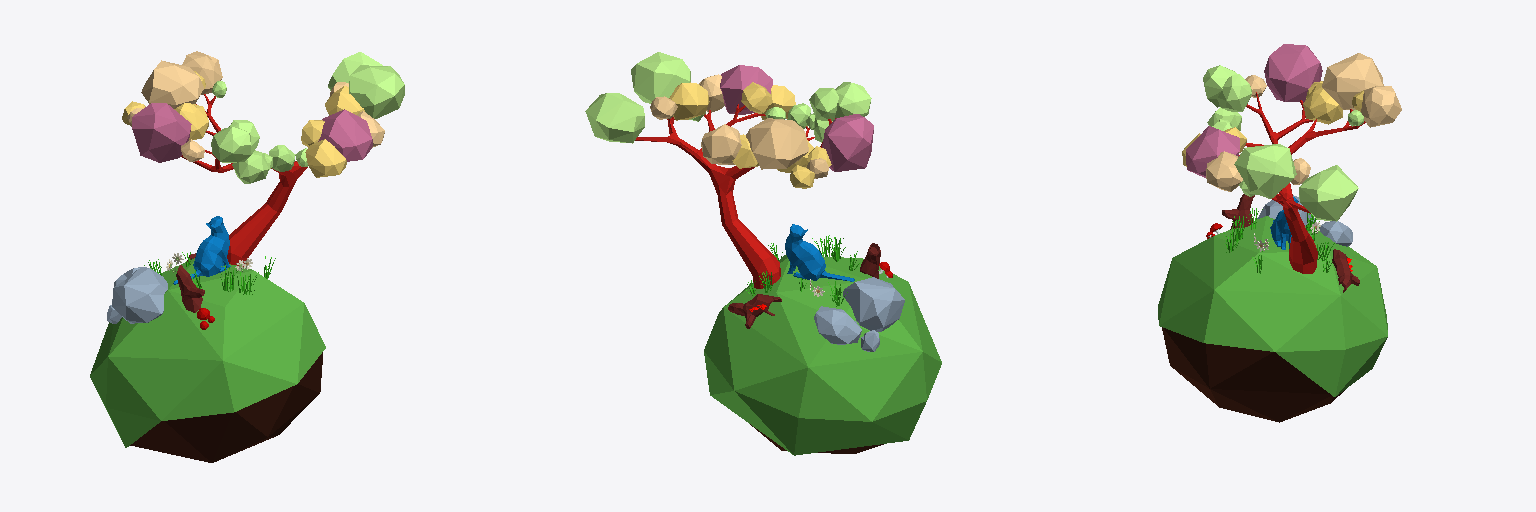
File: 3_lowpolyisland2_forweb.obj
3 renders of one model, left to right at view 1: azimuth 30°, elevation 25°; view 2: azimuth 150°, elevation 25°; view 3: azimuth 270°, elevation 25°, orthographic.
Visible parts, largest first — view 1: Icosphere.025, Cube, Icosphere.017, Rock1_Icosphere.028, Icosphere.001, Icosphere.010, Icosphere.006, Cat_Plane.001, Icosphere.020, Icosphere.007, Icosphere.011, Icosphere.023 (+5 smaller); view 2: Icosphere.025, Cube, Icosphere.010, Icosphere.017, Rock1_Icosphere.028, Icosphere, Icosphere.001, Cat_Plane.001, Icosphere.006, Rock3_Icosphere.029, Icosphere.011, Icosphere.002 (+6 smaller); view 3: Icosphere.025, Cube, Icosphere.017, Icosphere.001, Icosphere, Icosphere.010, Icosphere.006, Icosphere.011, Icosphere.014, Icosphere.004, Icosphere.021, Icosphere.020 (+4 smaller).
Boxes of the visible parts, x1=… form: Icosphere.025: x1=90, y1=258, x2=325, y2=462; Cube: x1=181, y1=94, x2=307, y2=266; Icosphere.017: x1=132, y1=103, x2=191, y2=162; Rock1_Icosphere.028: x1=112, y1=268, x2=167, y2=323; Icosphere.001: x1=349, y1=65, x2=404, y2=118; Icosphere.010: x1=141, y1=60, x2=203, y2=108; Icosphere.006: x1=318, y1=109, x2=372, y2=161; Cat_Plane.001: x1=173, y1=216, x2=230, y2=284; Icosphere.020: x1=211, y1=127, x2=251, y2=162; Icosphere.007: x1=305, y1=139, x2=346, y2=177; Icosphere.011: x1=182, y1=51, x2=222, y2=94; Icosphere.023: x1=232, y1=150, x2=268, y2=183; Icosphere.025: x1=704, y1=255, x2=941, y2=455; Cube: x1=635, y1=104, x2=835, y2=288; Icosphere.010: x1=746, y1=118, x2=808, y2=169; Icosphere.017: x1=822, y1=114, x2=873, y2=171; Rock1_Icosphere.028: x1=843, y1=277, x2=904, y2=331; Icosphere: x1=585, y1=93, x2=644, y2=143; Icosphere.001: x1=631, y1=52, x2=690, y2=103; Cat_Plane.001: x1=785, y1=224, x2=854, y2=281; Icosphere.006: x1=720, y1=65, x2=772, y2=114; Rock3_Icosphere.029: x1=814, y1=306, x2=861, y2=344; Icosphere.011: x1=701, y1=124, x2=741, y2=164; Icosphere.002: x1=669, y1=82, x2=709, y2=120; Icosphere.025: x1=1158, y1=216, x2=1387, y2=422; Cube: x1=1239, y1=92, x2=1365, y2=273; Icosphere.017: x1=1264, y1=44, x2=1322, y2=102; Icosphere.001: x1=1234, y1=144, x2=1296, y2=198; Icosphere: x1=1299, y1=165, x2=1358, y2=221; Icosphere.010: x1=1322, y1=53, x2=1383, y2=110; Icosphere.006: x1=1186, y1=126, x2=1239, y2=177; Icosphere.011: x1=1361, y1=86, x2=1401, y2=127; Icosphere.014: x1=1303, y1=83, x2=1342, y2=124; Icosphere.004: x1=1206, y1=151, x2=1242, y2=191; Icosphere.021: x1=1217, y1=74, x2=1251, y2=111; Icosphere.020: x1=1203, y1=65, x2=1237, y2=107.
Bounding box in the file's own units: 4.94 × 5.32 × 3.39.